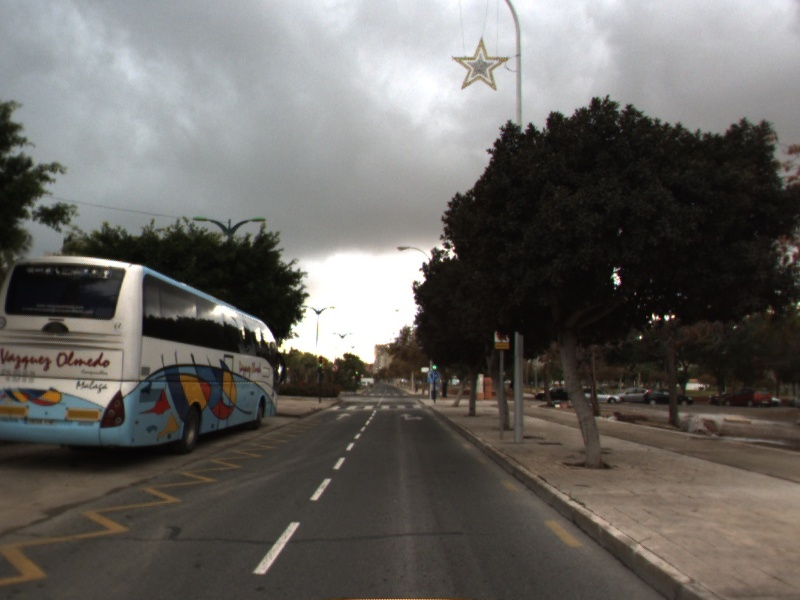STRAIGHT: (333, 411, 353, 422)
STRAIGHT_RIGHT: (398, 411, 426, 423)
